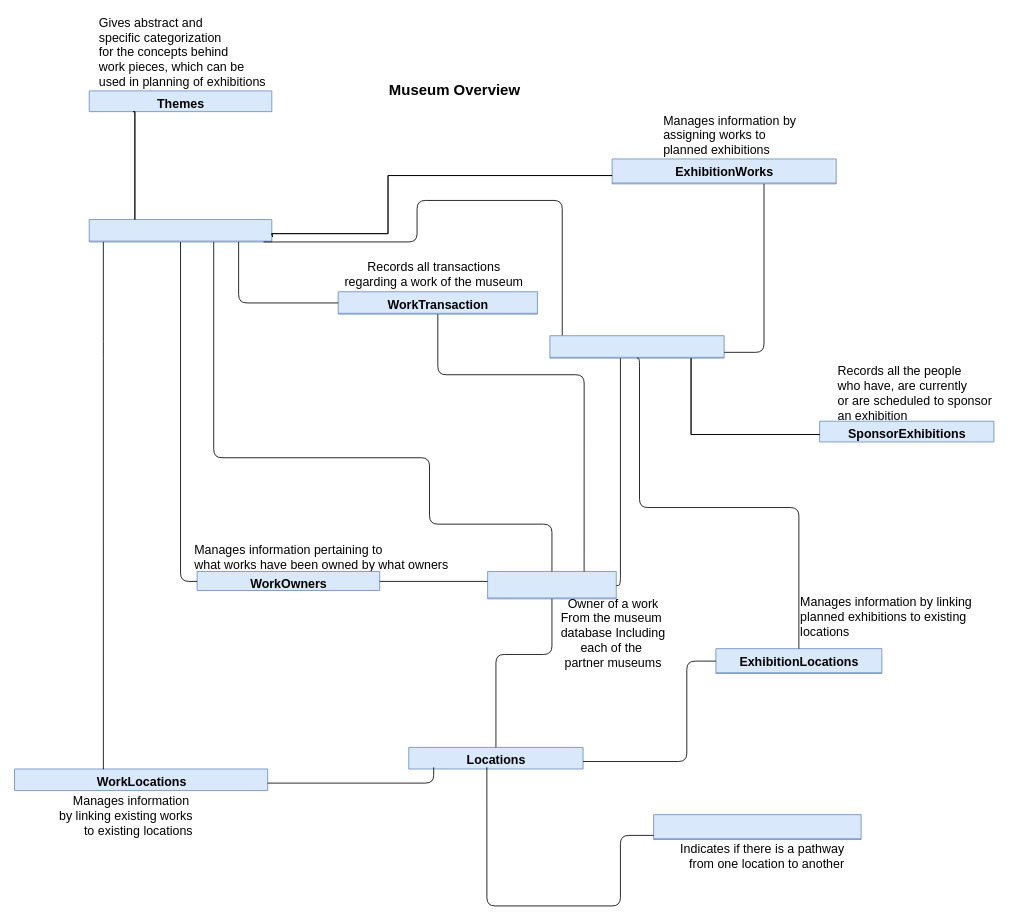
Some shapes in this 1015 by 921 pixel diagram are drawn without their labels. The centre of each missing label's shape, as x and y in pixels:
Doors: (757,827)
Exhibitions: (636,346)
Owners: (551,585)
Works: (180,230)
